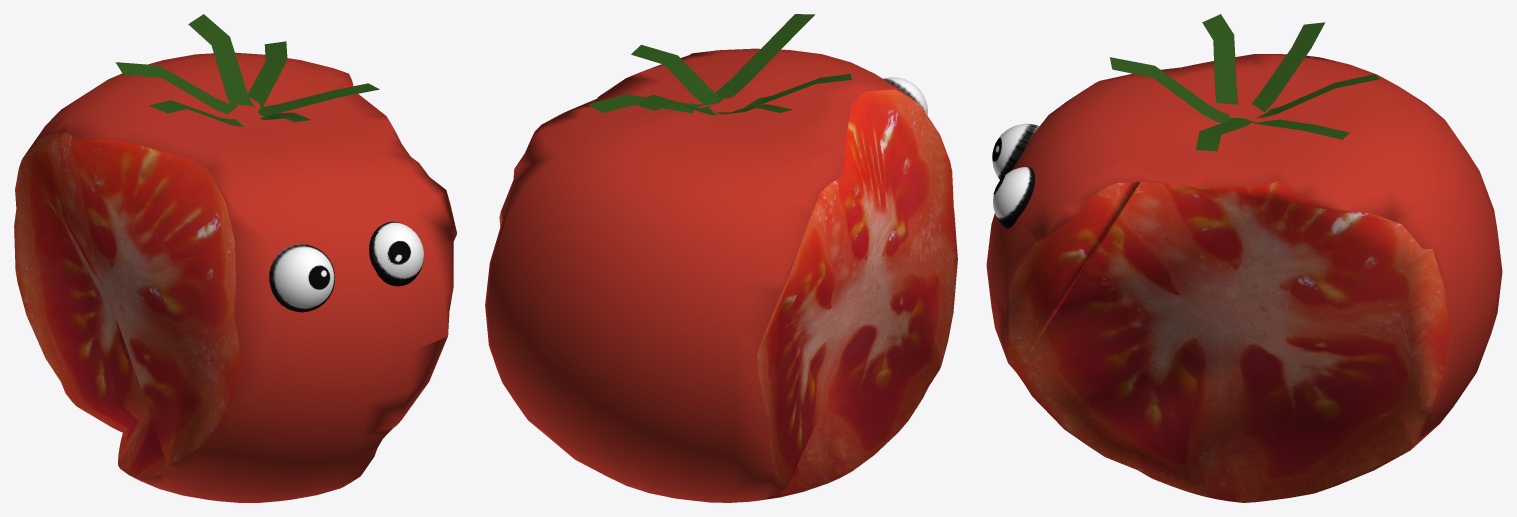
The model's file is Zuchini zerstört  1.fbx.
3 renders of one model, left to right at view 1: azimuth 30°, elevation 25°; view 2: azimuth 150°, elevation 25°; view 3: azimuth 270°, elevation 25°, orthographic. The views are drawn at different scales.
Visible parts, largest first — view 1: Sphere.003, Sphere.014, Sphere.013; view 2: Sphere.003, Sphere.014; view 3: Sphere.003, Sphere.013, Sphere.014.
Part boxes in pixels (x1,y1,x2,y2): Sphere.003: (14, 14, 456, 502); Sphere.014: (269, 244, 334, 312); Sphere.013: (369, 221, 423, 286); Sphere.003: (485, 14, 957, 502); Sphere.014: (883, 77, 927, 115); Sphere.003: (986, 14, 1502, 502); Sphere.013: (993, 167, 1034, 228); Sphere.014: (992, 123, 1039, 179).
Bounding box in the file's own units: 130 × 176 × 200.
